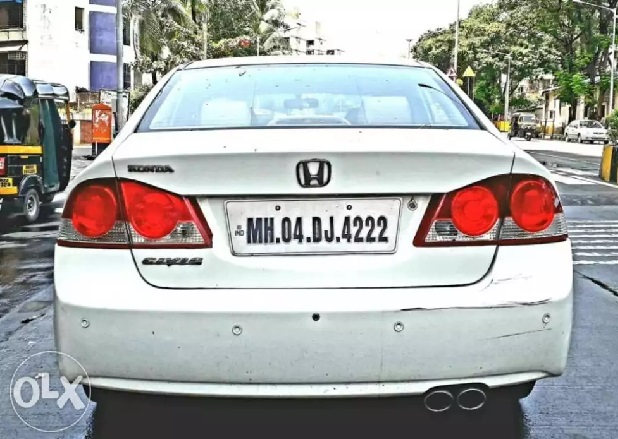licenseplate: (222, 196, 408, 258)
